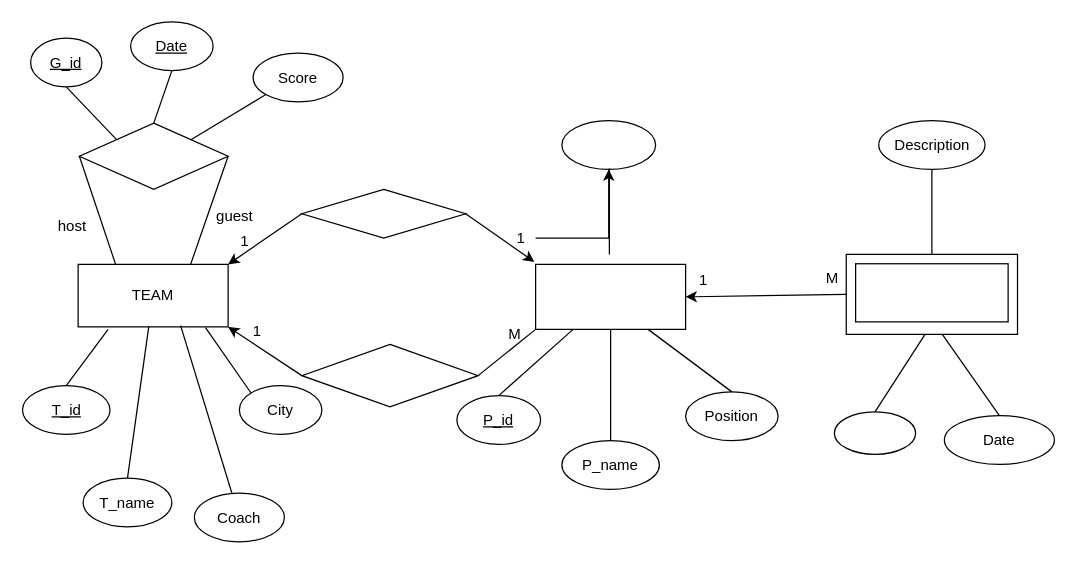
The diagram is 1076 pixels wide and 564 high, and some of its shapes have lost their labels. The shapes that lost their labels are listed below. From the top down, each one's box as (x1, y1, x2, y2) in pixels, then its label:
(78, 122, 228, 189): Game
(561, 119, 656, 169): Skill level
(301, 188, 466, 238): Captain
(534, 263, 686, 329): PLAYER
(854, 262, 1008, 322): INJURY RECORDS
(301, 343, 478, 407): Belongs to
(833, 411, 916, 454): id
